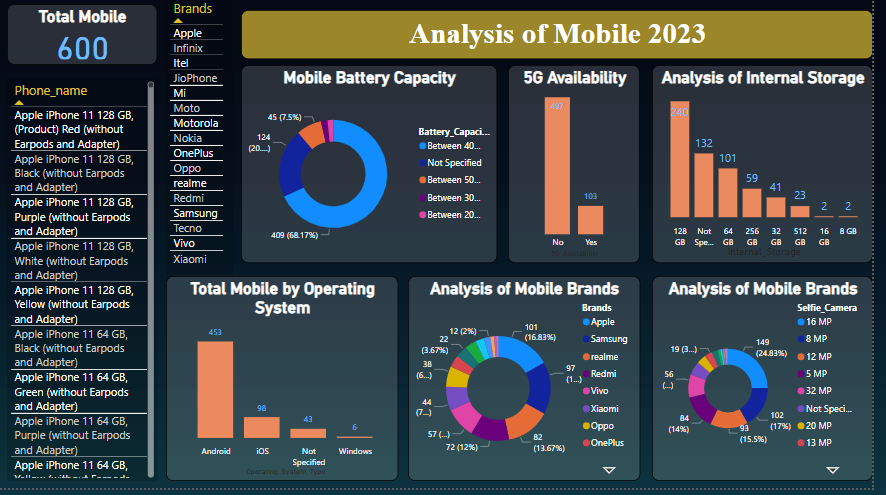

The page's visual inventory and layout, read from the dashboard file:
{"tool":"powerbi","page":{"name":"Page 1","canvas":[1280,720],"ordinal":0},"visuals":[{"type":"card","title":"Total Mobile","fields":{"Values":["Sum(mobileanalysis mobile.Total_Mobile)"]},"box":[12.7,11.7,219.5,89.3],"z":0},{"type":"tableEx","fields":{"Values":["mobileanalysis mobile.Phone_name"]},"box":[12.7,120,219.5,589.8],"z":1000},{"type":"tableEx","fields":{"Values":["mobileanalysis mobile.Brands"]},"box":[245.4,0,98,409.8],"z":2000},{"type":"clusteredColumnChart","title":"Total Mobile by Operating System","fields":{"Category":["mobileanalysis mobile.Operating_System_Type"],"Y":["Sum(mobileanalysis mobile.Total_Mobile)"]},"box":[245.4,409.8,339.5,300],"z":3000},{"type":"donutChart","title":"Mobile Battery Capacity","fields":{"Category":["mobileanalysis mobile.Battery_Capacity_Range"],"Y":["Sum(mobileanalysis mobile.Total_Mobile)"]},"box":[355.1,101,374.6,289.8],"z":4000},{"type":"columnChart","title":"5G Availability","fields":{"Category":["mobileanalysis mobile.5G_Availability"],"Y":["Sum(mobileanalysis mobile.Total_Mobile)"]},"box":[745.8,101,193.2,289.8],"z":5000},{"type":"donutChart","title":"Analysis of Mobile Brands","fields":{"Y":["Sum(mobileanalysis mobile.Total_Mobile)"],"Category":["mobileanalysis mobile.Brands"]},"box":[599.5,409.8,339.5,300],"z":6000},{"type":"columnChart","title":"Analysis of Internal Storage","fields":{"Y":["Sum(mobileanalysis mobile.Total_Mobile)"],"Category":["mobileanalysis mobile.Internal_Storage"]},"box":[956.6,101,323.4,289.8],"z":7000},{"type":"donutChart","title":"Analysis of Mobile Brands","fields":{"Y":["Sum(mobileanalysis mobile.Total_Mobile)"],"Category":["mobileanalysis mobile.Selfie_Camera"]},"box":[956.6,409.8,323.4,300],"z":8000},{"type":"textbox","box":[355.1,20.5,924.9,71.7],"z":9000}]}

Visuals, with their boxes in screenshot pixels (x1, y1, x2, y2), scaled from the page's 1280x720 canvas onto the 886x495 screenshot:
"Total Mobile" card: bbox=[9, 8, 161, 69]
tableEx - mobileanalysis mobile.Phone_name: bbox=[9, 82, 161, 488]
tableEx - mobileanalysis mobile.Brands: bbox=[170, 0, 238, 282]
"Total Mobile by Operating System" clusteredColumnChart: bbox=[170, 282, 405, 488]
"Mobile Battery Capacity" donutChart: bbox=[246, 69, 505, 269]
"5G Availability" columnChart: bbox=[516, 69, 650, 269]
"Analysis of Mobile Brands" donutChart: bbox=[415, 282, 650, 488]
"Analysis of Internal Storage" columnChart: bbox=[662, 69, 885, 269]
"Analysis of Mobile Brands" donutChart: bbox=[662, 282, 885, 488]
textbox: bbox=[246, 14, 885, 63]
